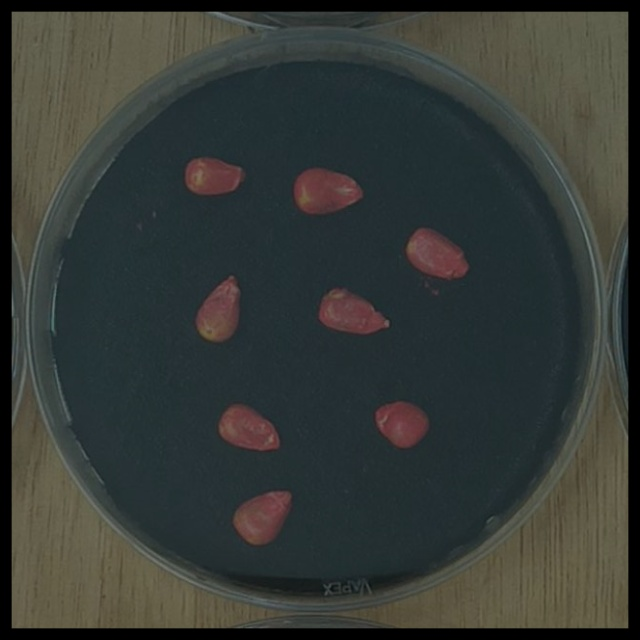Zea mays: (224, 479, 300, 552), (399, 218, 478, 286), (311, 279, 397, 339), (286, 160, 371, 219), (187, 265, 247, 348), (212, 397, 288, 459), (178, 148, 254, 203), (368, 393, 435, 454)
